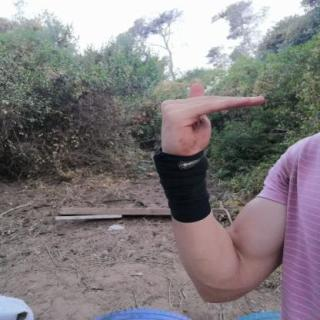KHAA: (144, 77, 276, 167)
